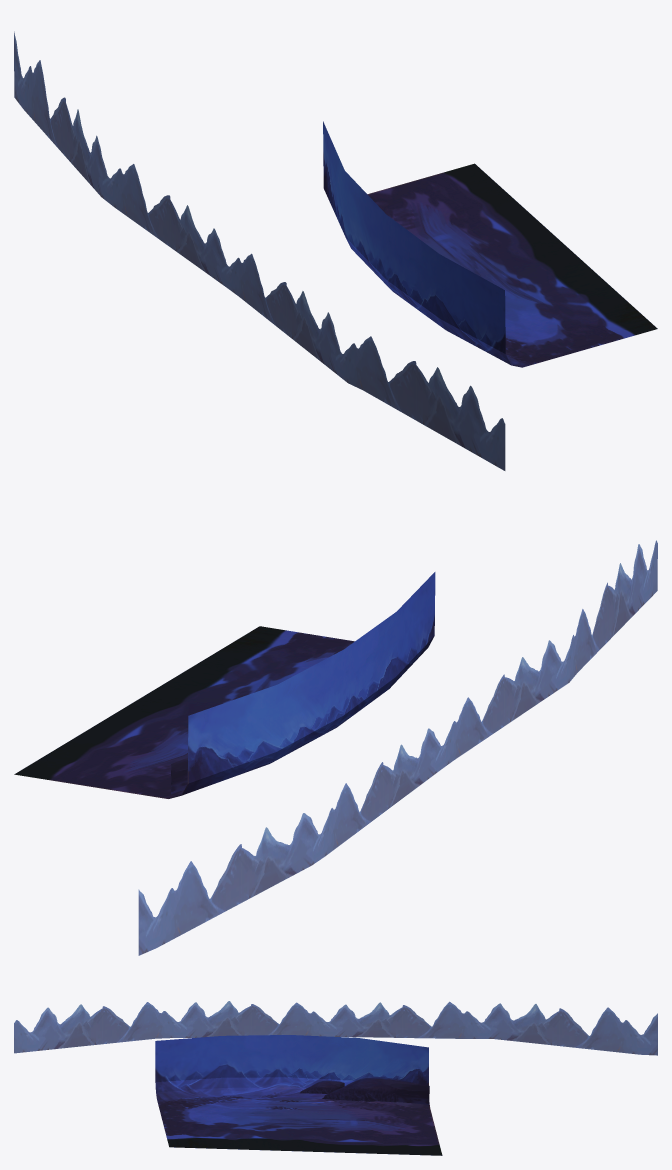
File: menu_object_wooden_fences.fbx
The picture shows the model from 3 angles, top to bottom: view 1: azimuth 30°, elevation 25°; view 2: azimuth 150°, elevation 25°; view 3: azimuth 270°, elevation 25°; orthographic projection. The views are drawn at different scales.
Parts seen in each view (by area): view 1: menu_object_wooden_fences-0; view 2: menu_object_wooden_fences-0; view 3: menu_object_wooden_fences-0.
Part boxes in pixels (x1,y1,x2,y2): menu_object_wooden_fences-0: (14,31,657,470); menu_object_wooden_fences-0: (14,540,657,955); menu_object_wooden_fences-0: (14,1001,657,1155).
Bounding box in the file's own units: 23.05 × 6.57 × 59.2.
